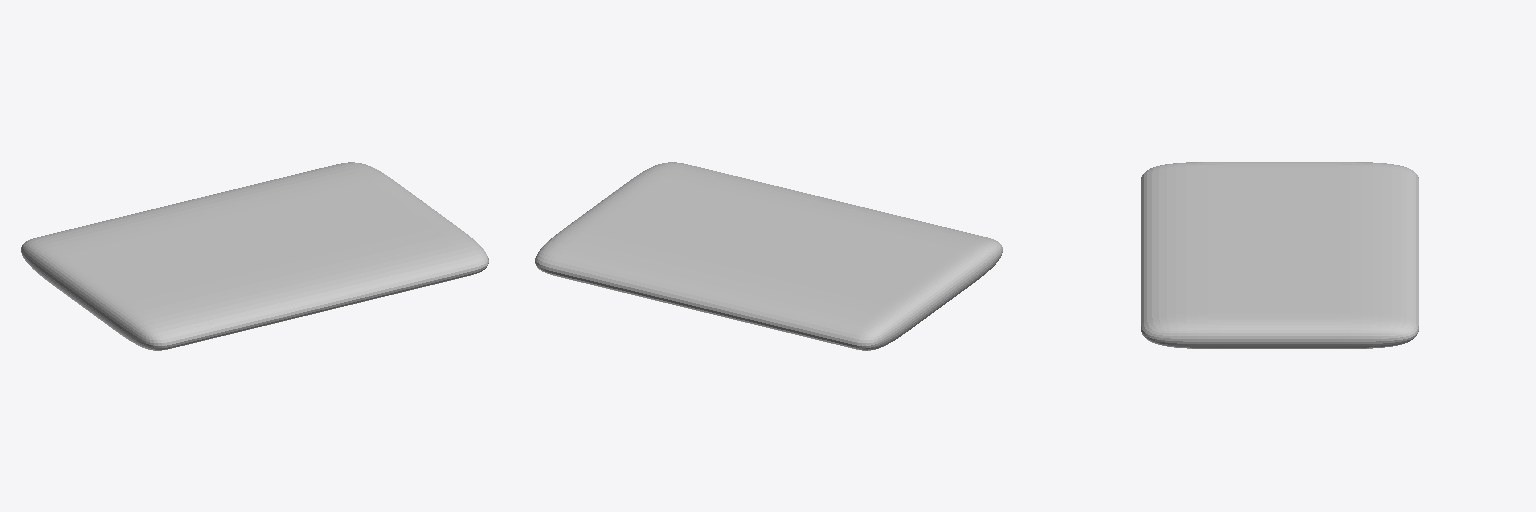
The model's file is mac.obj.
The picture shows the model from 3 angles: view 1: azimuth 30°, elevation 25°; view 2: azimuth 150°, elevation 25°; view 3: azimuth 270°, elevation 25°; orthographic projection.
Bounding box in the file's own units: 0.3227 × 0.0241 × 0.2211.